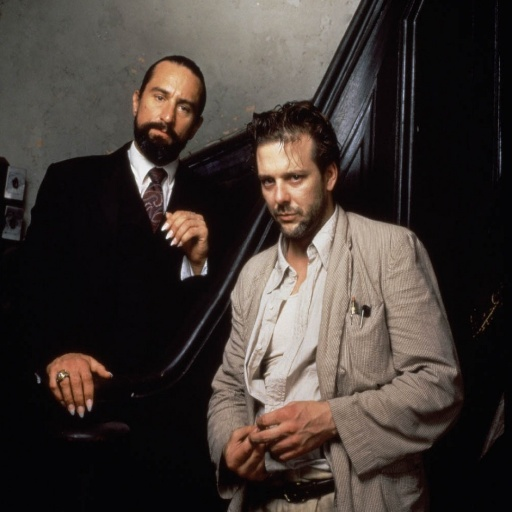hand: (247, 399, 334, 461), (45, 352, 113, 418), (221, 424, 269, 481), (158, 209, 206, 264)
